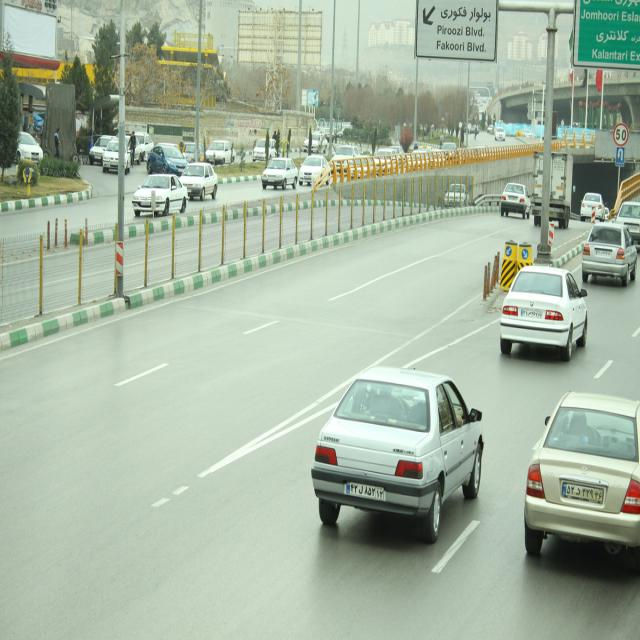car: (313, 368, 479, 542), (524, 392, 640, 570), (500, 276, 584, 358), (578, 220, 638, 279), (133, 175, 186, 218), (180, 161, 217, 200), (263, 159, 299, 193), (300, 150, 332, 187), (145, 146, 185, 172), (102, 136, 132, 168), (500, 183, 529, 216), (88, 130, 116, 162), (579, 187, 607, 217)
truck: (532, 150, 572, 230)
